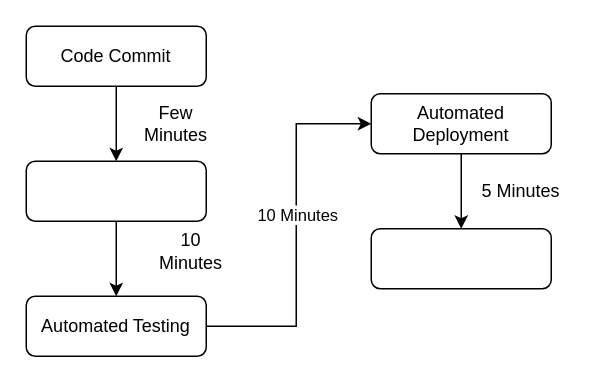
Image size: 593x383. Some labels were removed from this diagram. Each missing label, with the box of its shape:
Automated Build: (25, 160, 206, 221)
Production: (370, 227, 551, 289)
